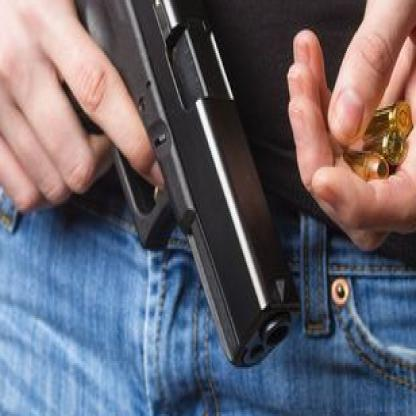gun: (18, 0, 302, 392)
